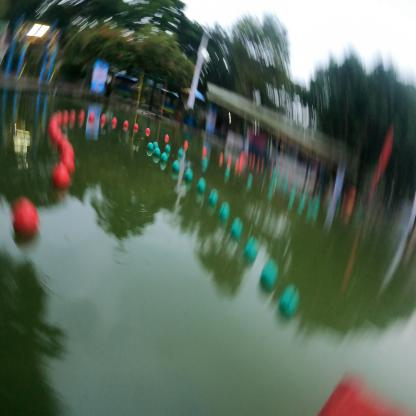green_buoy: (279, 287, 300, 321), (262, 264, 276, 294), (244, 239, 258, 264), (231, 220, 243, 242), (220, 204, 230, 224), (209, 190, 218, 206), (161, 152, 168, 168), (185, 169, 193, 182), (173, 162, 180, 176), (147, 142, 153, 155), (154, 149, 160, 162), (199, 182, 205, 194), (165, 145, 172, 154), (152, 141, 157, 149)
red_buoy: (12, 201, 38, 244), (51, 163, 71, 192)
